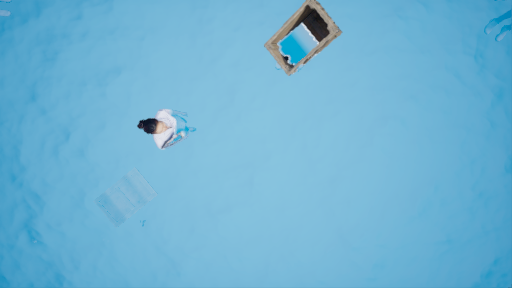person: (125, 108, 207, 153)
